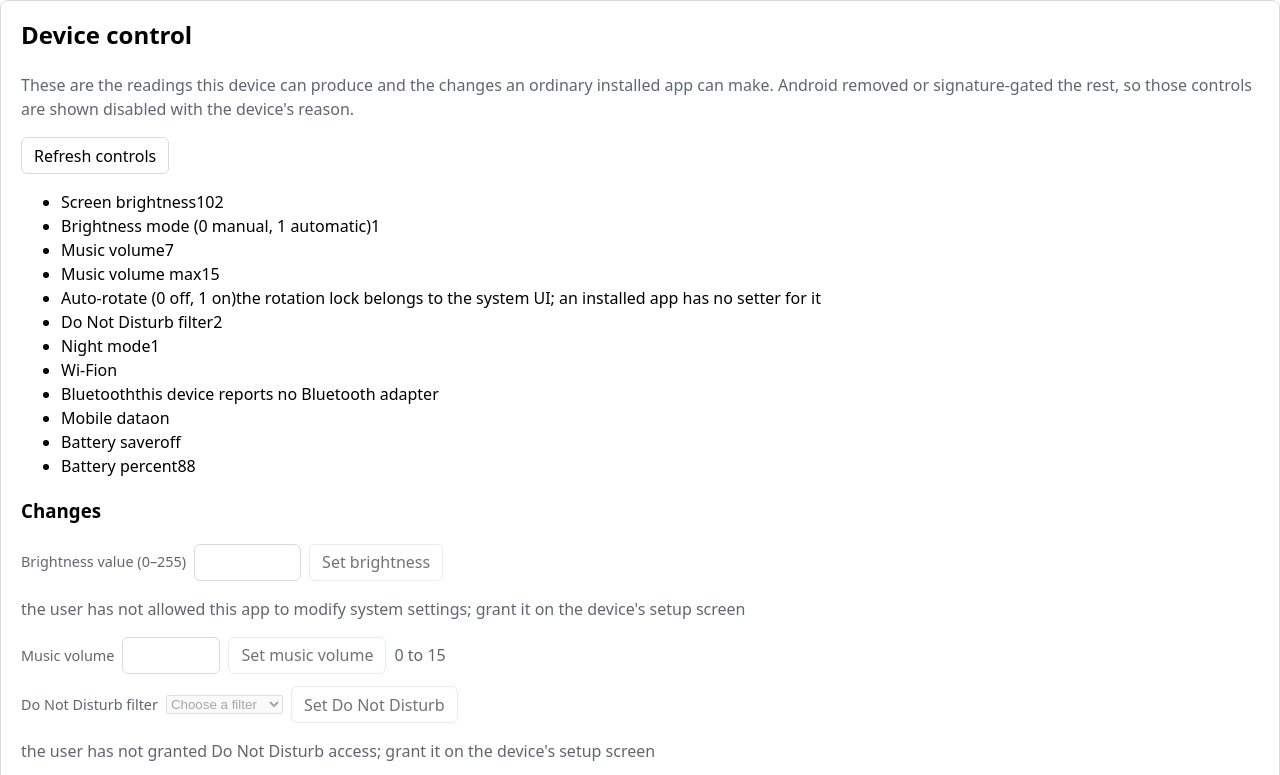
Scenario: the control panel › does not claim a change succeeded until the device answers ok
The image size is (1280, 775).
expect the list named "control readings" is shown: met, box x1=61 y1=191 x2=821 y2=477
Step 1. Type "4" into the number field labelled "Music volume" → x=171, y=655, box x1=122 y1=637 x2=220 y2=674
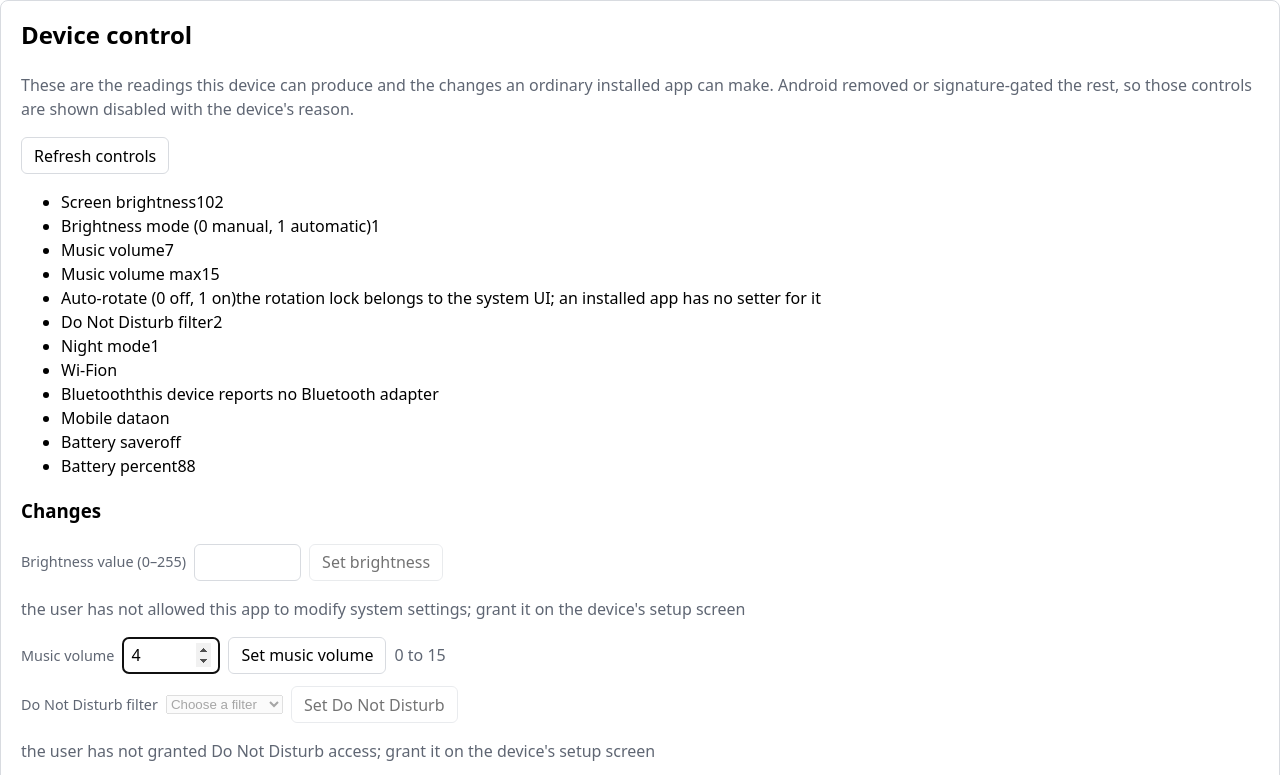
Step 2. Click the button "Set music volume" → x=307, y=655, box x1=228 y1=637 x2=386 y2=674
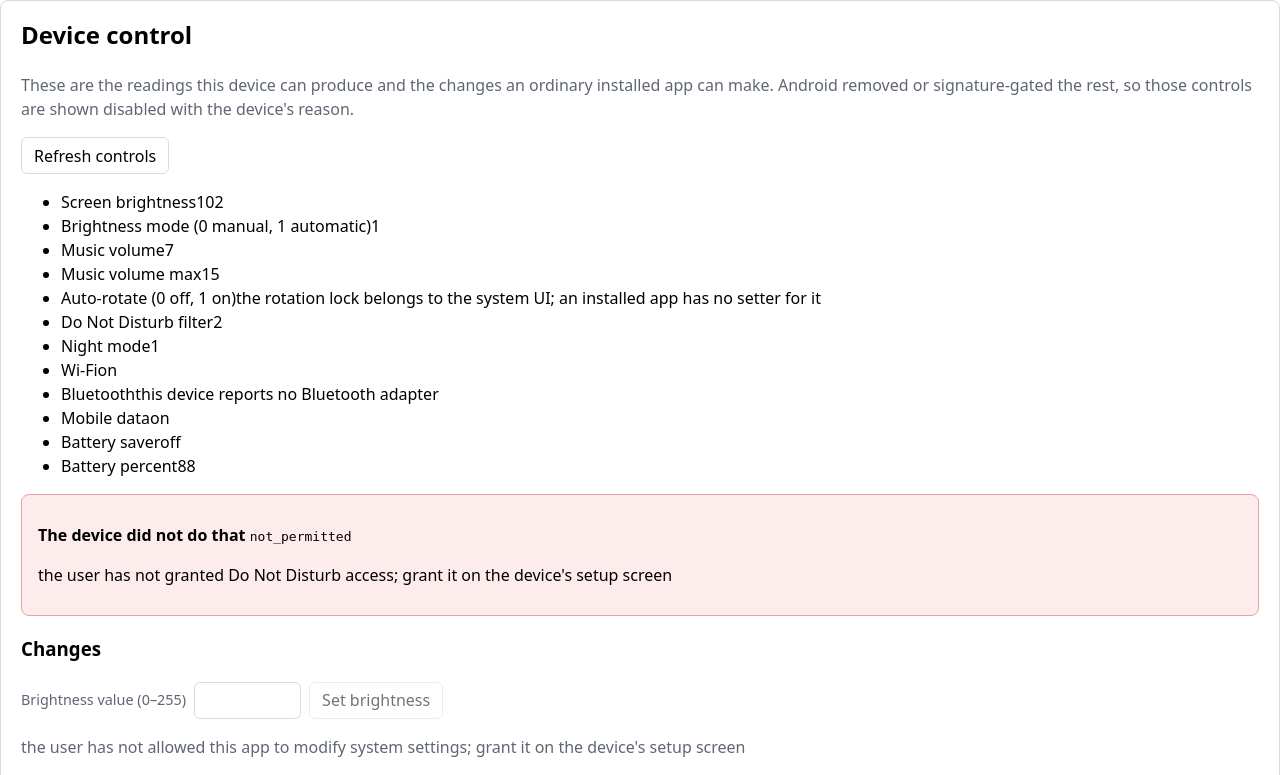
expect the message shows "not_permitted": met, box x1=250 y1=529 x2=352 y2=544
expect the message shows "did not do that": met, box x1=38 y1=524 x2=246 y2=546
expect the message shows "Do Not Disturb access": met, box x1=38 y1=564 x2=672 y2=586
